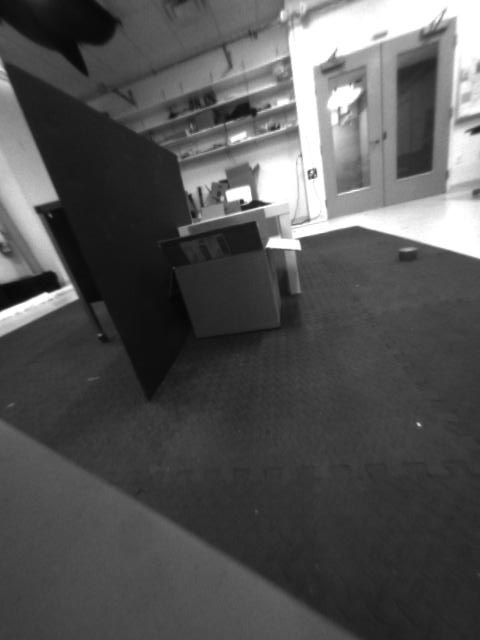dogtoy: (386, 235, 425, 274)
